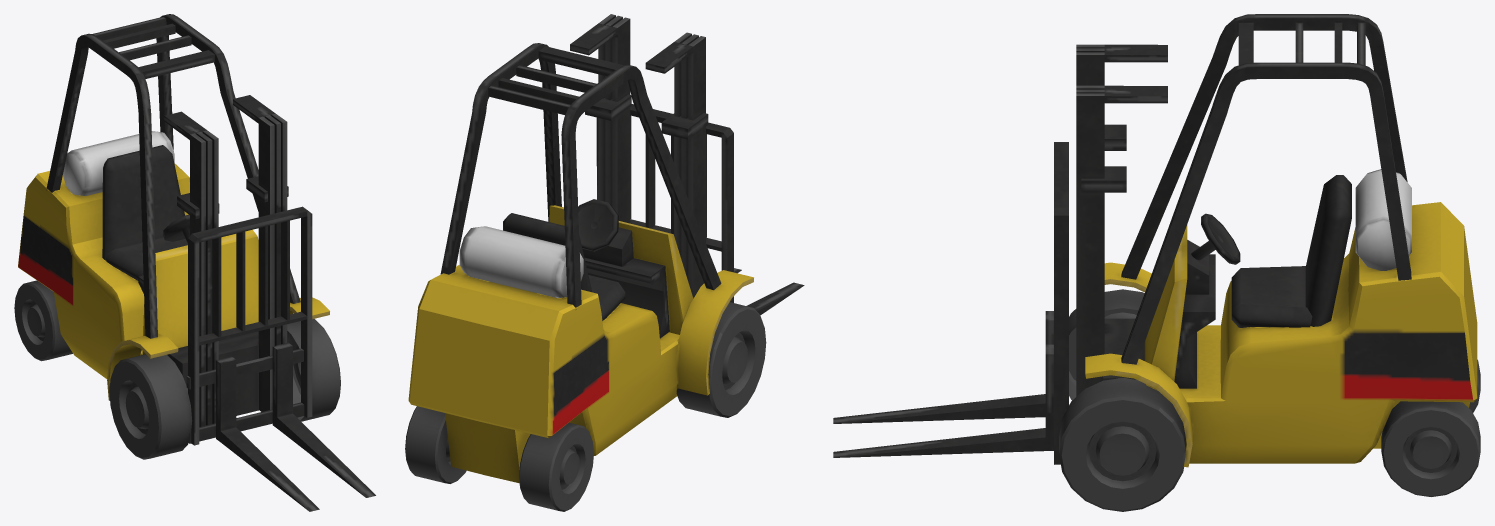
Rendered from chache.fbx.
3 views of the same model, side by side, from view 1: azimuth 30°, elevation 25°; view 2: azimuth 150°, elevation 25°; view 3: azimuth 270°, elevation 25° (orthographic). The views are drawn at different scales.
Parts seen in each view (by area): view 1: chache; view 2: chache; view 3: chache.
Boxes of the visible parts, x1=… form: chache: x1=14, y1=14, x2=375, y2=511; chache: x1=405, y1=14, x2=804, y2=511; chache: x1=833, y1=14, x2=1480, y2=511.
Bounding box in the file's own units: 1.35 × 2.41 × 3.38.
